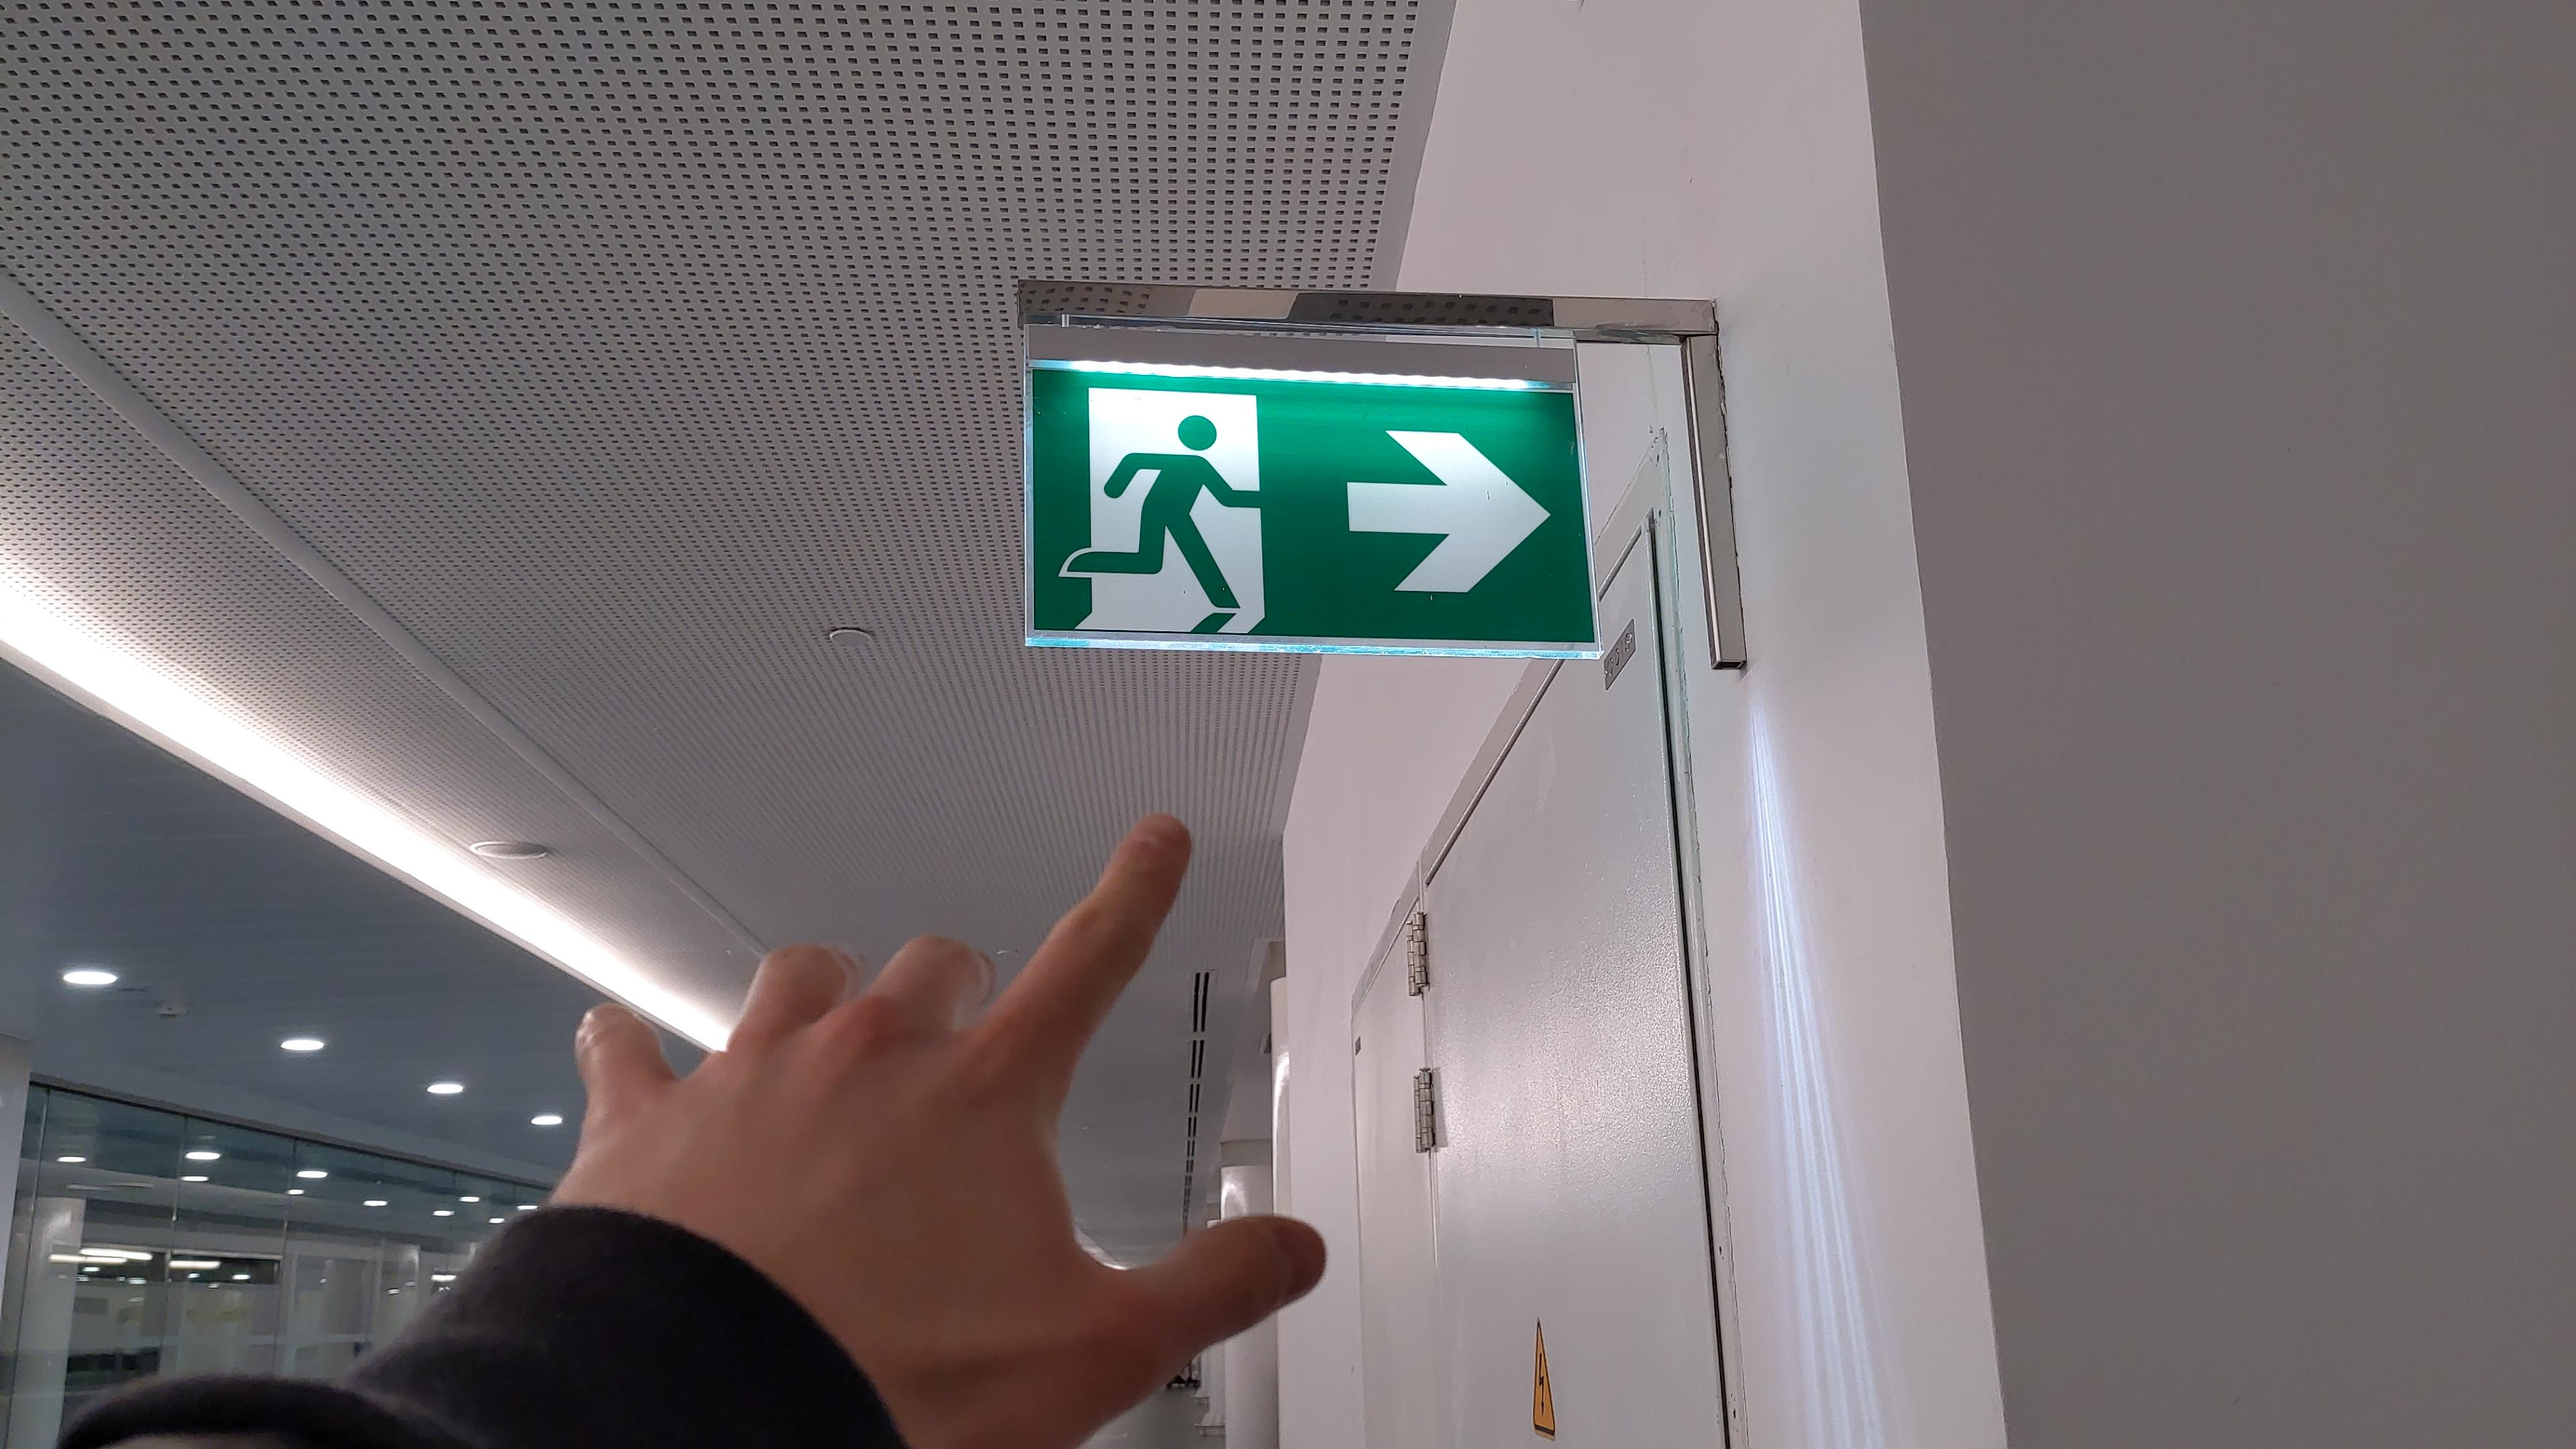emergency exit: (1056, 382, 1277, 642)
right arrow: (1341, 418, 1559, 603)
